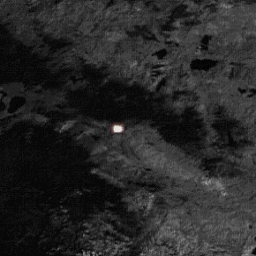Target: (112, 123, 124, 134)
